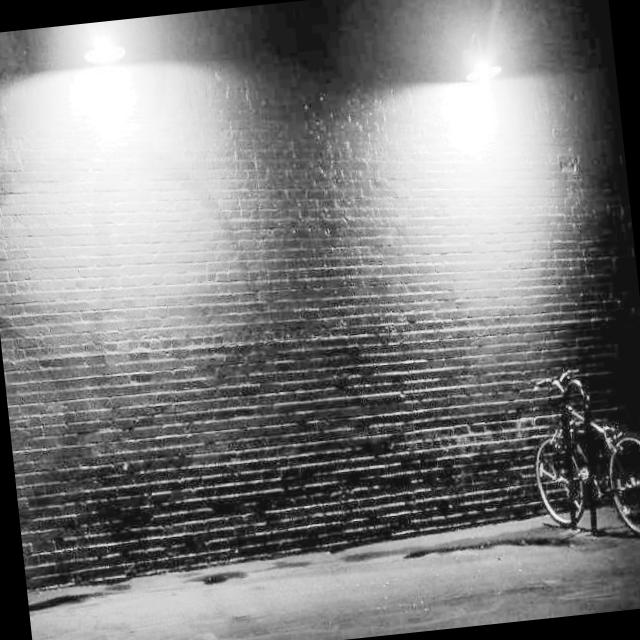Bicycle: (515, 342, 640, 597)
